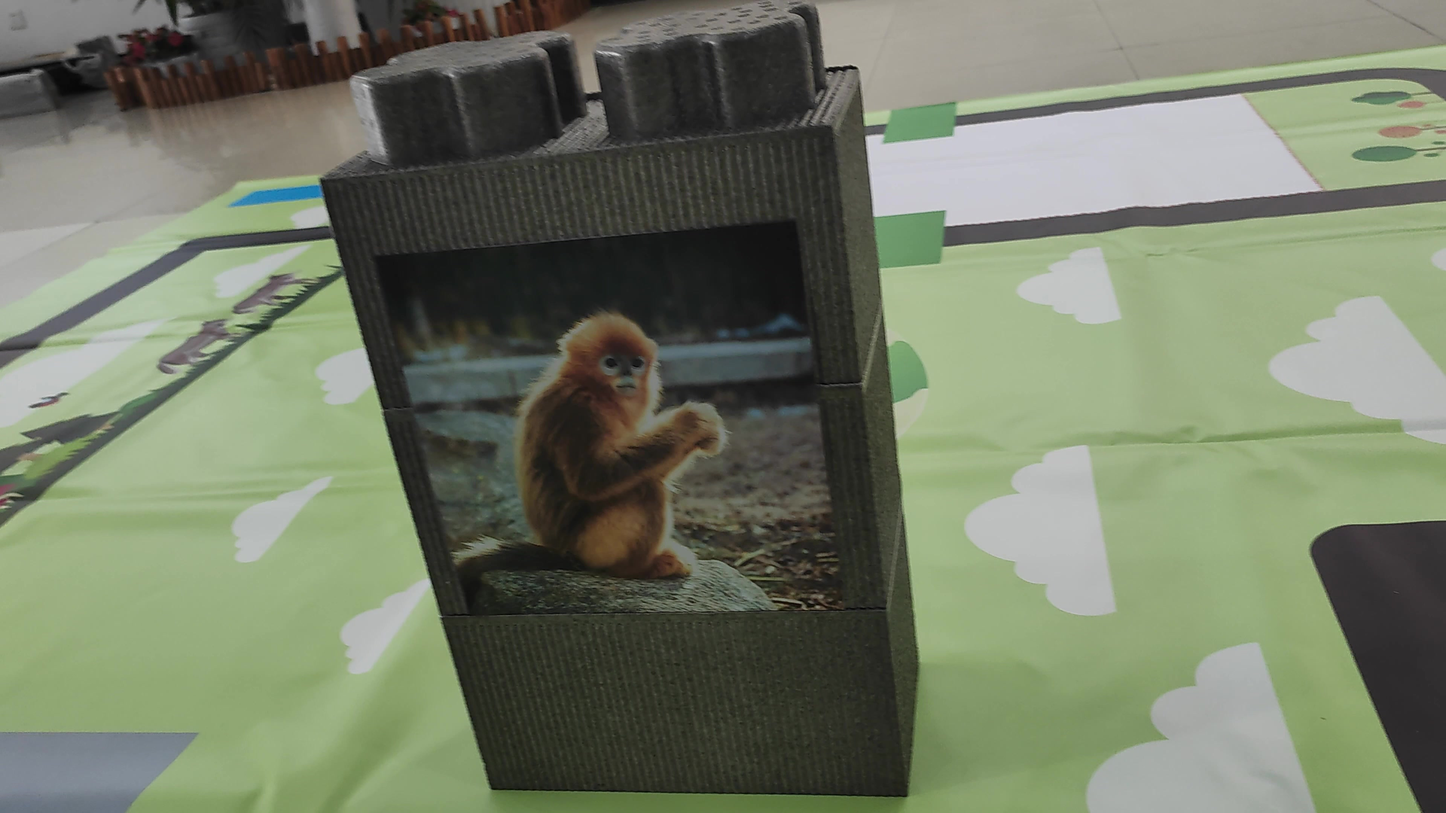monkey: (509, 295, 773, 583)
